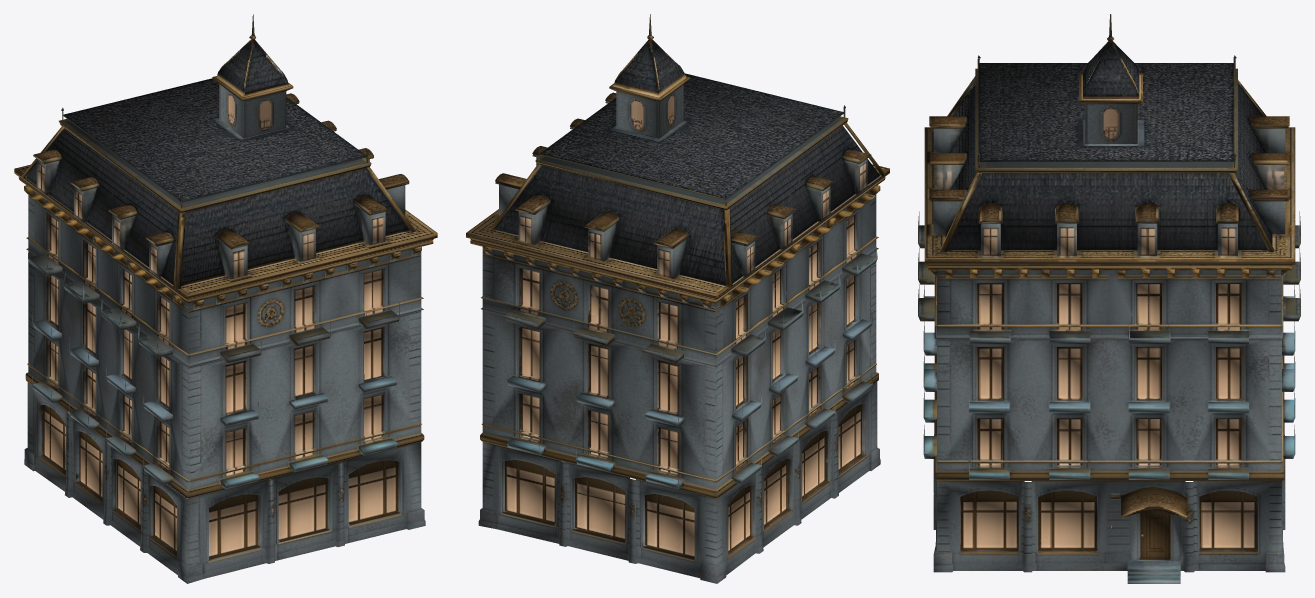
Rendered from tripo_convert_77c789c8-a745-48f8-8220-372dc26e3d11.fbx.
The picture shows the model from 3 angles, left to right: view 1: azimuth 30°, elevation 25°; view 2: azimuth 150°, elevation 25°; view 3: azimuth 270°, elevation 25°; orthographic projection. The views are drawn at different scales.
Visible parts, largest first — view 1: tripo_node_77c789c8; view 2: tripo_node_77c789c8; view 3: tripo_node_77c789c8.
Part boxes in pixels (x1,y1,x2,y2): tripo_node_77c789c8: (14, 14, 437, 583); tripo_node_77c789c8: (466, 14, 889, 583); tripo_node_77c789c8: (918, 14, 1300, 583).
Size of the model in its own units: 0.6348 by 0.998 by 0.6777.
1 material, 1 textured.
